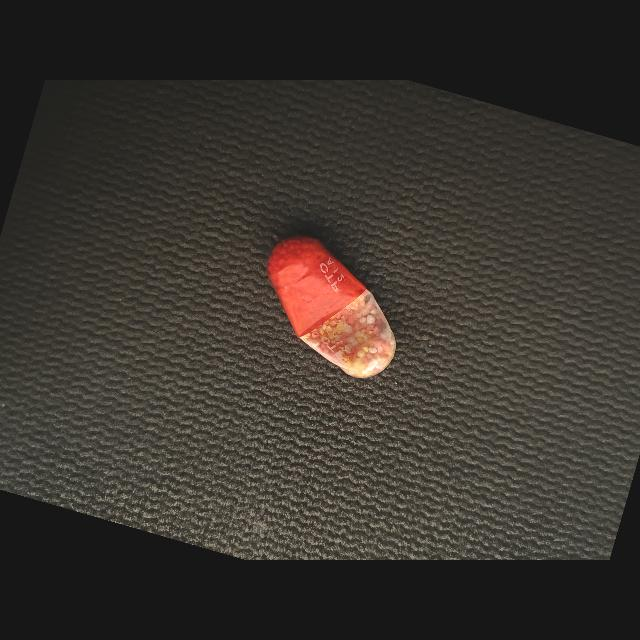Defective Capsule: (267, 236, 396, 378)
